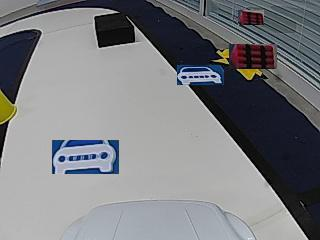block: (94, 13, 135, 47)
cone: (0, 89, 19, 124)
